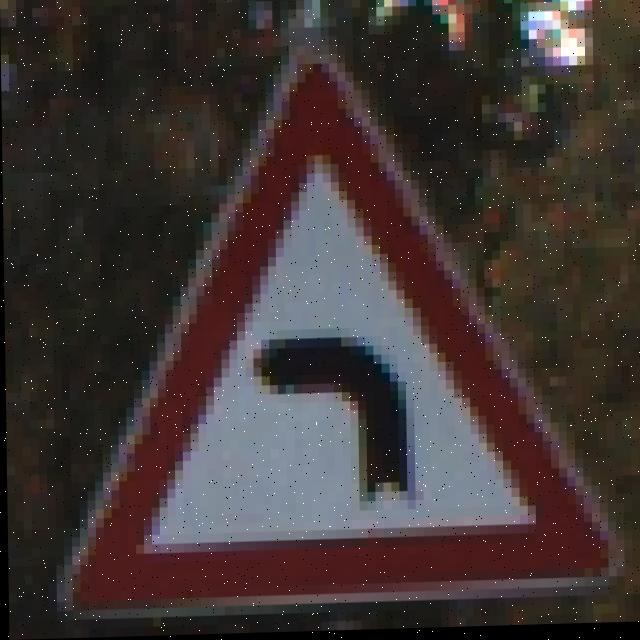left_turn: (107, 122, 625, 633)
